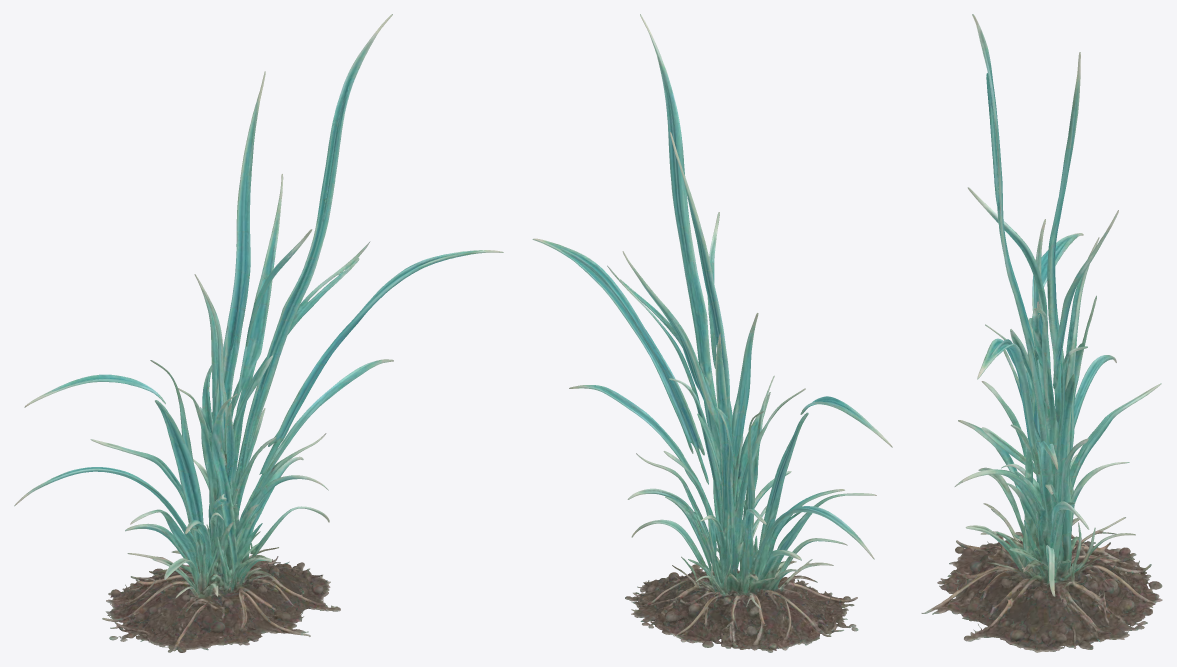
File: Meshy_AI_grass_cluster_c_0823021033_image-to-3d-texture.glb
3 views of the same model, side by side, from view 1: azimuth 30°, elevation 25°; view 2: azimuth 150°, elevation 25°; view 3: azimuth 270°, elevation 25° (orthographic). The views are drawn at different scales.
Size of the model in its own units: 1.48 by 1.9 by 0.6323.
Materials: 1 (1 with a texture image).
